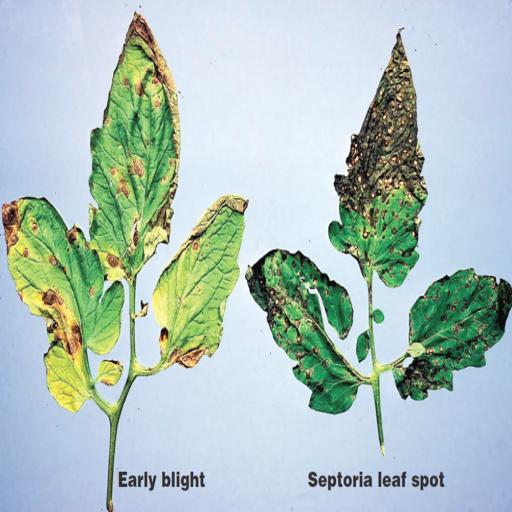Early Blight: (0, 194, 125, 417), (90, 10, 180, 280), (152, 195, 252, 368)
Septoria: (328, 25, 428, 287), (246, 246, 362, 416), (394, 265, 512, 400)
